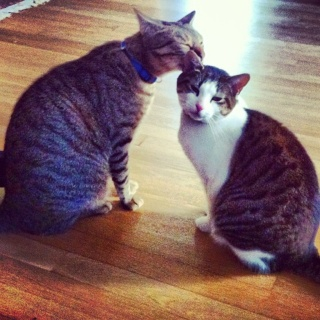Cat: (0, 5, 206, 236), (170, 46, 319, 285)
